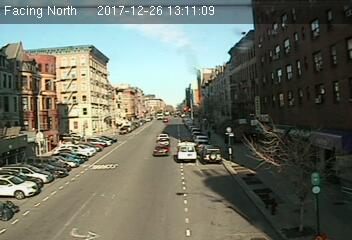car: (200, 145, 221, 163), (152, 144, 170, 157)
truck: (177, 141, 197, 161)
